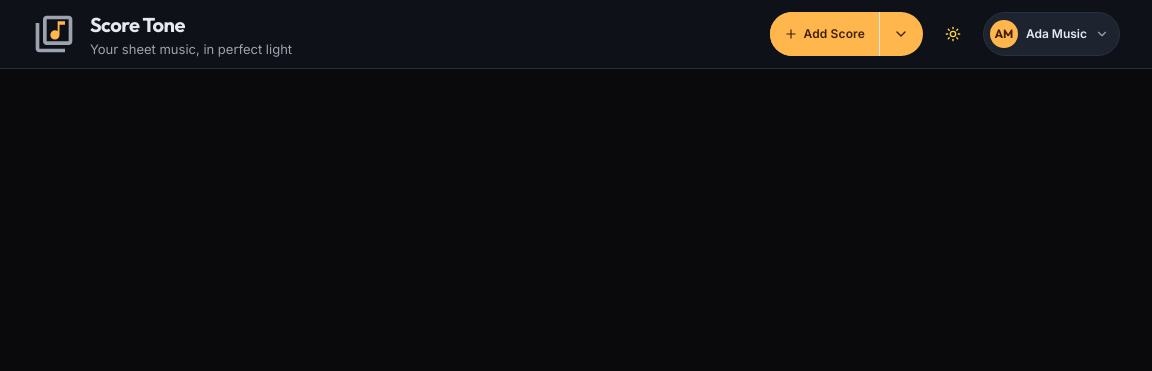
HeaderBar settings entry points › keeps remembered status truthful without duplicate cloud authentication in the menu
The width and height of the screenshot is (1152, 371).
Click the button with aria-label "Account and settings". click: {"x": 1051, "y": 34}
box: [983, 12, 1120, 56]
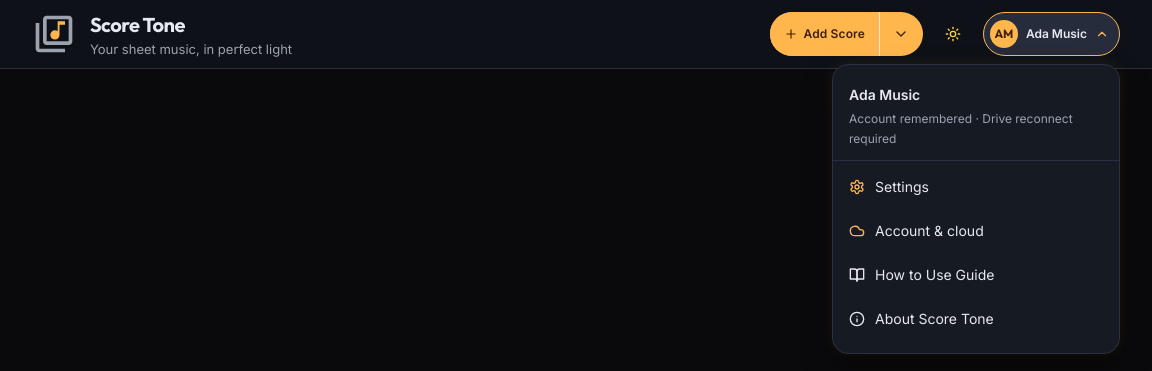
expect the message reads "Account remembered · Drive reconnect required": met, box [849, 111, 1073, 146]
